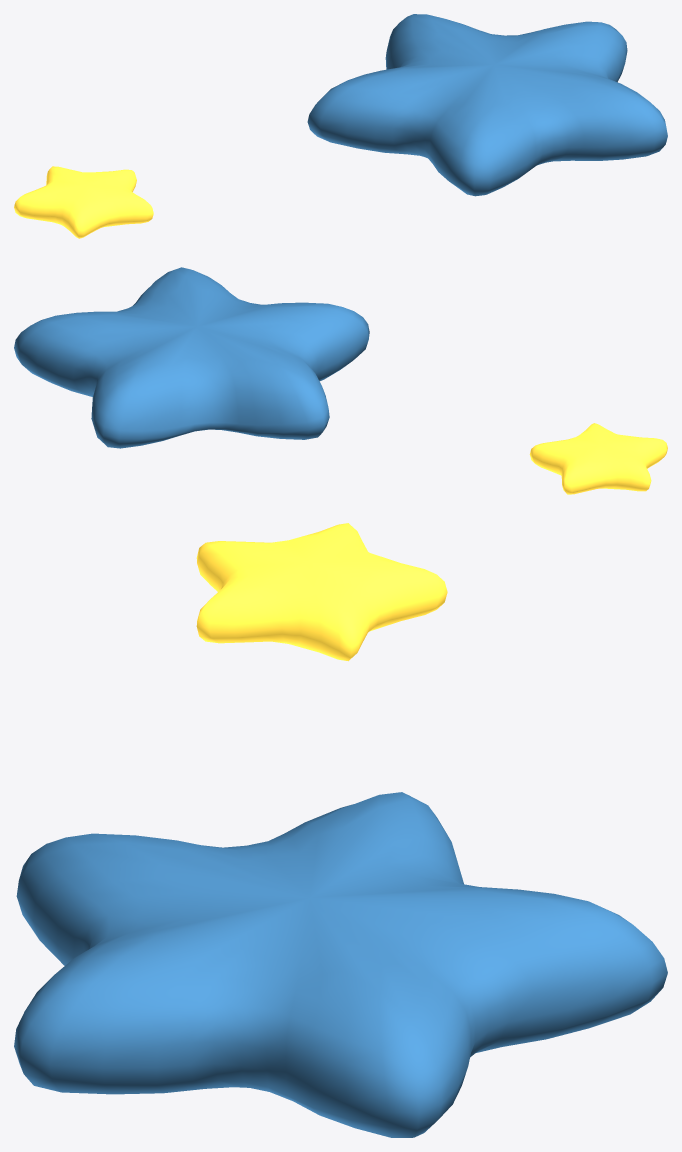
Rendered from bubble star test.fbx.
3 renders of one model, top to bottom at view 1: azimuth 30°, elevation 25°; view 2: azimuth 150°, elevation 25°; view 3: azimuth 270°, elevation 25°, orthographic. The views are drawn at different scales.
Visible parts, largest first — view 1: bubble, star.001; view 2: bubble, star.001; view 3: bubble, star.001.
Part boxes in pixels (x1,y1,x2,y2): bubble: [307, 14, 667, 196]; star.001: [14, 166, 153, 238]; bubble: [14, 267, 369, 448]; star.001: [529, 423, 667, 494]; bubble: [14, 792, 667, 1137]; star.001: [196, 523, 447, 661].
Bounding box in the file's own units: 587 × 63.02 × 283.
